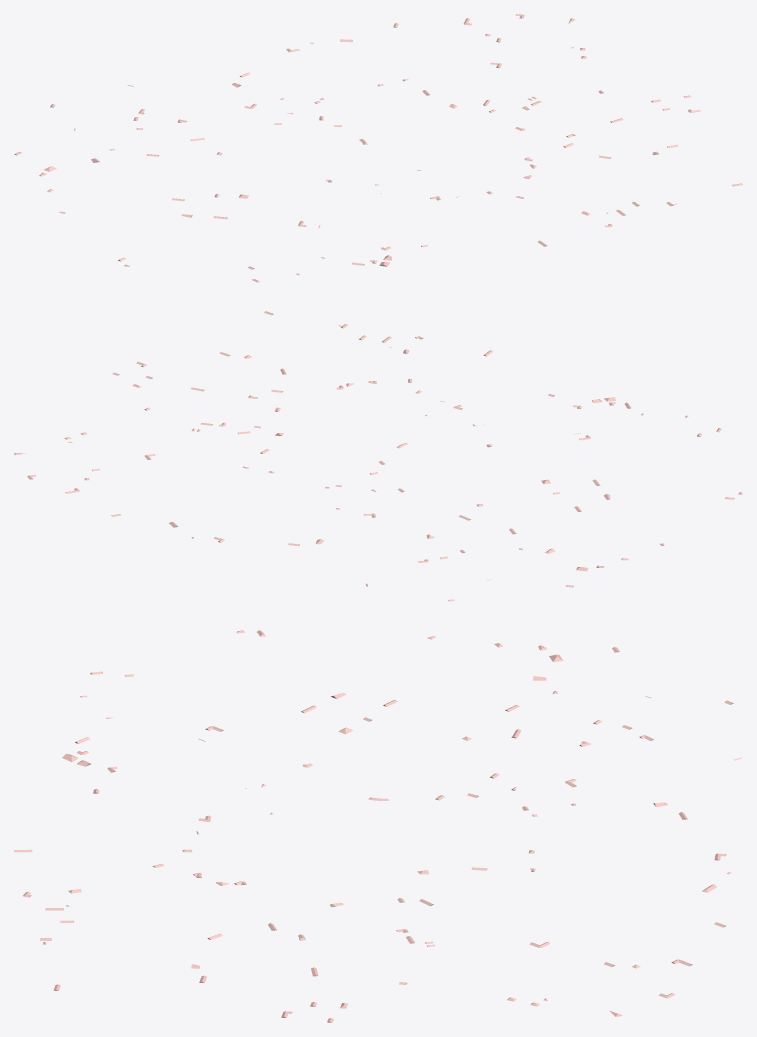
File: FaitageTuile_1.obj
3 views of the same model, one above another, from view 1: azimuth 30°, elevation 25°; view 2: azimuth 150°, elevation 25°; view 3: azimuth 270°, elevation 25° (orthographic). The views are drawn at different scales.
Parts seen in each view (by area): view 1: FaitageTuile_1; view 2: FaitageTuile_1; view 3: FaitageTuile_1.
Boxes of the visible parts, x1,y1,x2,y2 form: FaitageTuile_1: (14, 14, 742, 282); FaitageTuile_1: (14, 311, 742, 601); FaitageTuile_1: (14, 630, 742, 1022).
Bounding box in the file's own units: 2454 × 73.79 × 1928.
